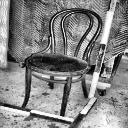chair_success: (17, 6, 105, 119)
